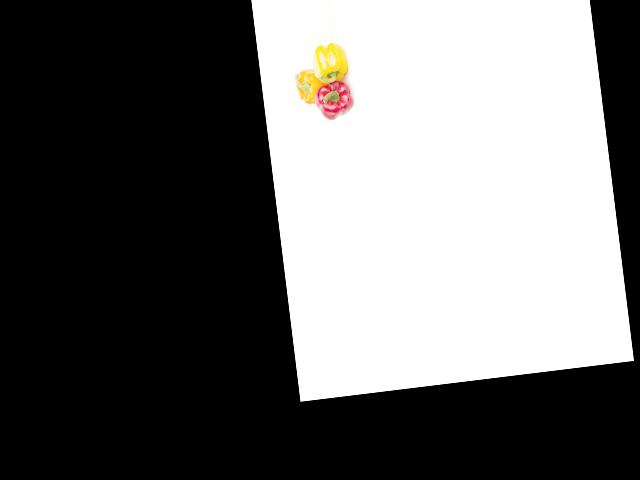bell_pepper: (309, 40, 352, 82)
